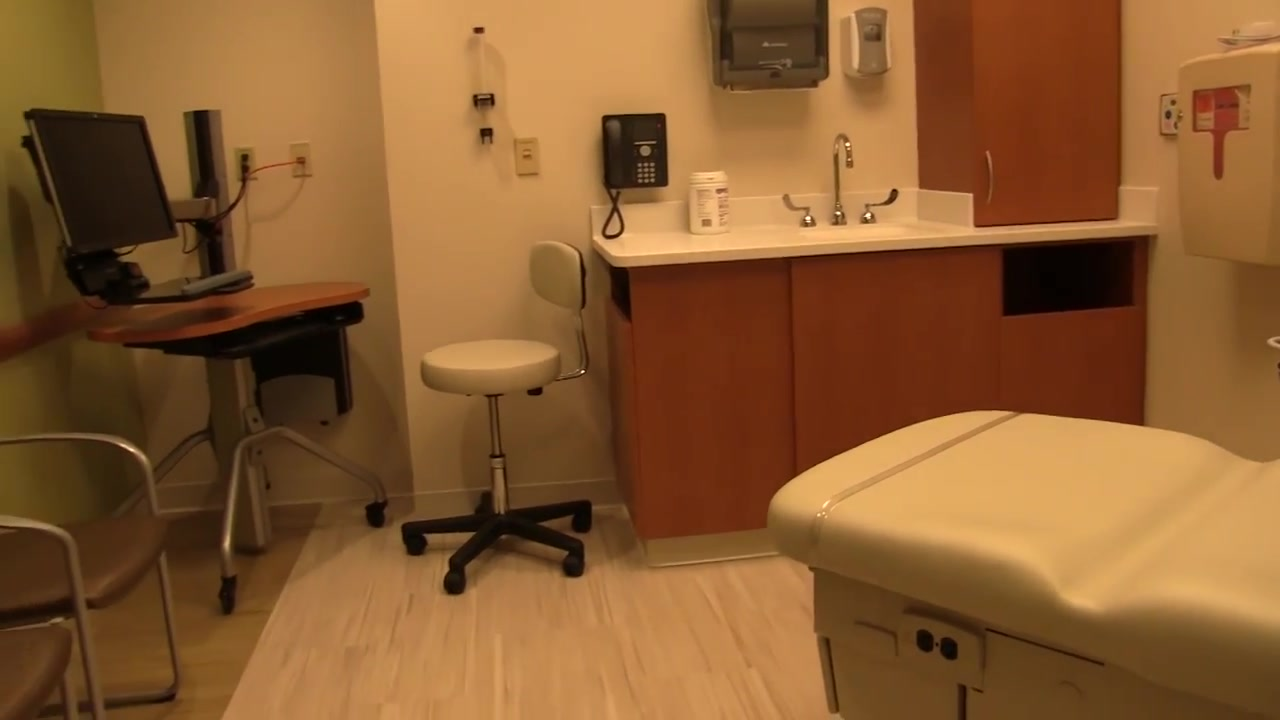cabinet: (913, 1, 1122, 218)
chair: (402, 238, 594, 594), (1, 434, 182, 719), (1, 621, 80, 720)
computer: (23, 107, 178, 256)
counter: (602, 227, 1150, 564)
countertop: (591, 221, 970, 266)
dispenser: (840, 9, 894, 79)
exam_table: (761, 404, 1280, 720)
faucet: (784, 132, 899, 226)
handle: (982, 149, 996, 205)
medical_waste_container: (1176, 39, 1280, 271)
sink: (799, 222, 920, 240)
table: (81, 274, 387, 612)
telephone: (595, 111, 668, 239)
